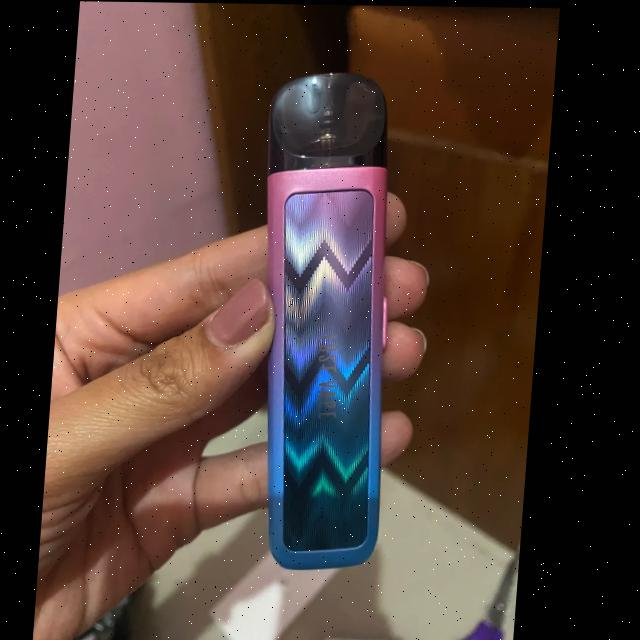vape: (246, 70, 415, 570)
